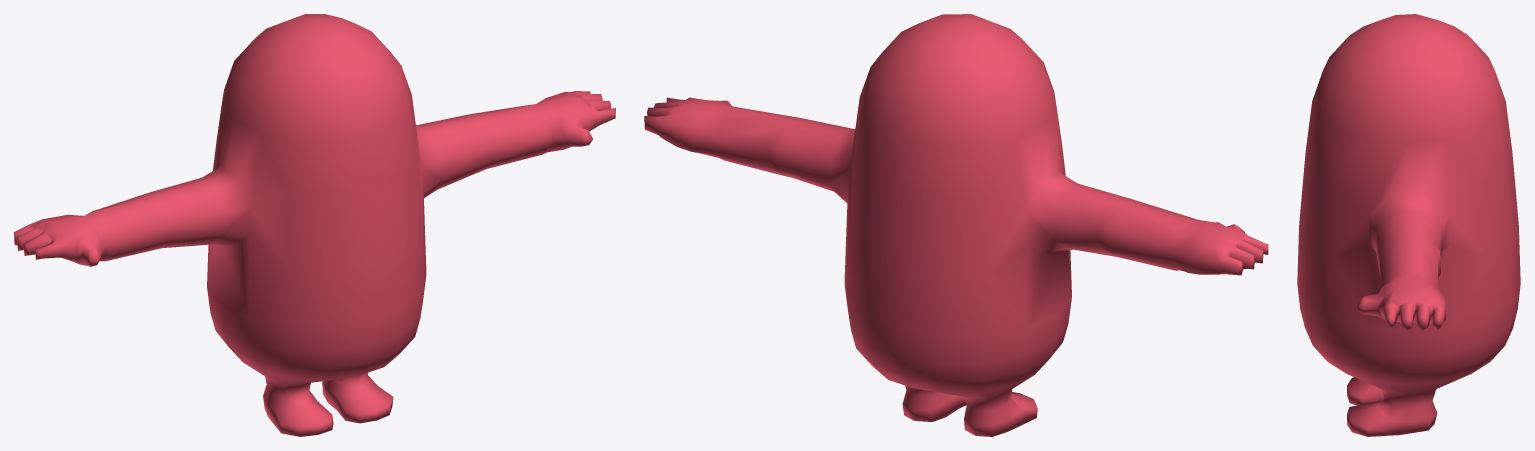
The model's file is character.fbx.
3 renders of one model, left to right at view 1: azimuth 30°, elevation 25°; view 2: azimuth 150°, elevation 25°; view 3: azimuth 270°, elevation 25°, orthographic. The views are drawn at different scales.
Visible parts, largest first — view 1: Sphere; view 2: Sphere; view 3: Sphere.
Part boxes in pixels (x1,y1,x2,y2): Sphere: (14,14,615,436); Sphere: (644,14,1268,436); Sphere: (1297,14,1520,436).
Bounding box in the file's own units: 12.26 × 7.68 × 4.
